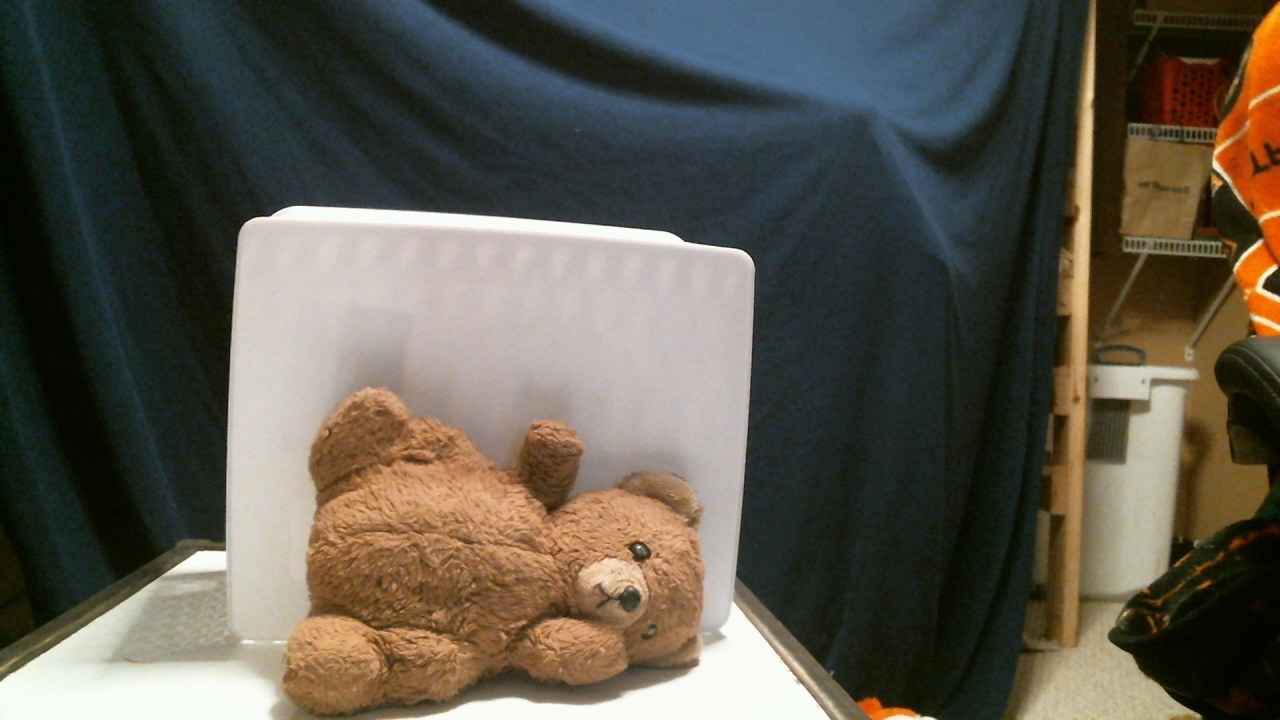Little_Mister_Bear: (560, 544, 680, 653)
